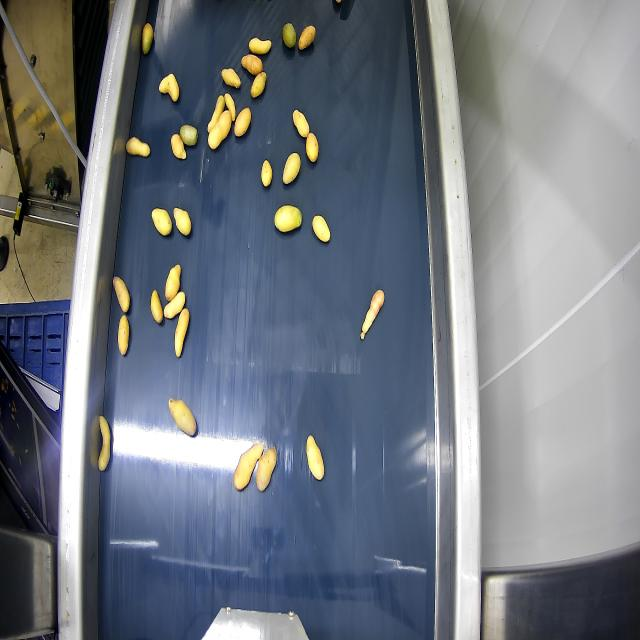Baby Potato: (234, 444, 263, 490), (361, 289, 384, 339), (168, 399, 196, 436), (208, 111, 231, 150), (257, 448, 276, 492), (306, 435, 324, 480), (98, 415, 111, 471), (274, 206, 301, 232), (175, 308, 189, 357), (208, 96, 225, 133), (113, 277, 130, 313), (164, 291, 185, 319), (165, 264, 180, 301), (159, 73, 178, 102), (152, 208, 171, 236), (283, 152, 300, 183), (292, 109, 310, 138), (173, 208, 191, 236), (312, 216, 330, 242), (234, 107, 250, 136), (126, 137, 149, 157), (118, 315, 129, 356), (241, 54, 262, 75), (299, 25, 315, 50), (251, 72, 266, 98), (171, 134, 186, 159), (249, 38, 271, 55), (151, 290, 162, 324), (221, 68, 240, 87), (306, 133, 318, 162), (180, 125, 197, 145), (142, 24, 153, 54), (283, 23, 296, 48), (224, 93, 235, 121), (261, 160, 272, 187)
